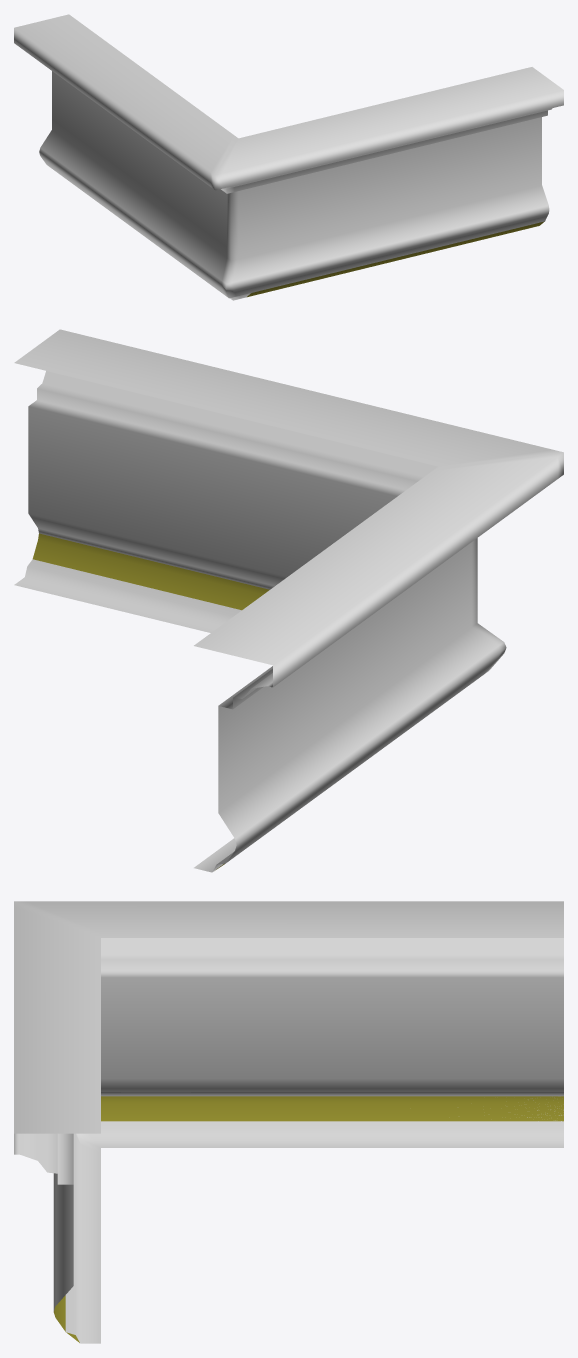
The model's file is SM_FriezeACorner2m.fbx.
The picture shows the model from 3 angles, top to bottom: view 1: azimuth 30°, elevation 25°; view 2: azimuth 150°, elevation 25°; view 3: azimuth 270°, elevation 25°; orthographic projection. The views are drawn at different scales.
Parts seen in each view (by area): view 1: SM_FriezeACorner2m; view 2: SM_FriezeACorner2m; view 3: SM_FriezeACorner2m.
Boxes of the visible parts, box(x1,y1,x2,y2) form: SM_FriezeACorner2m: box(14, 14, 563, 300); SM_FriezeACorner2m: box(14, 329, 563, 872); SM_FriezeACorner2m: box(14, 901, 563, 1343).
Size of the model in its own units: 238 by 100 by 238.
